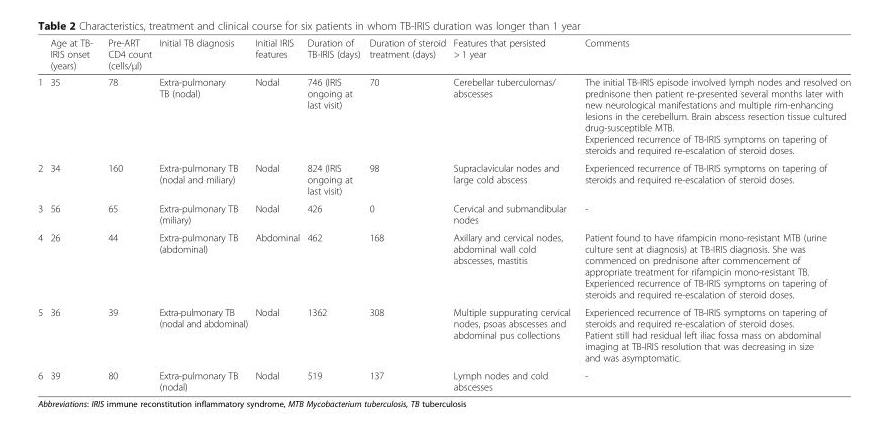table: (37, 36, 850, 392)
table column: (577, 36, 850, 392), (449, 36, 577, 392), (154, 36, 250, 392), (364, 36, 449, 392), (302, 36, 364, 392), (99, 36, 154, 392), (45, 36, 99, 392), (250, 36, 302, 392), (37, 36, 45, 392)
table column header: (37, 36, 850, 73)
table row: (37, 73, 850, 158), (37, 228, 850, 302), (37, 302, 850, 366), (37, 158, 850, 199), (37, 36, 850, 73), (37, 199, 850, 228), (37, 366, 850, 392)
